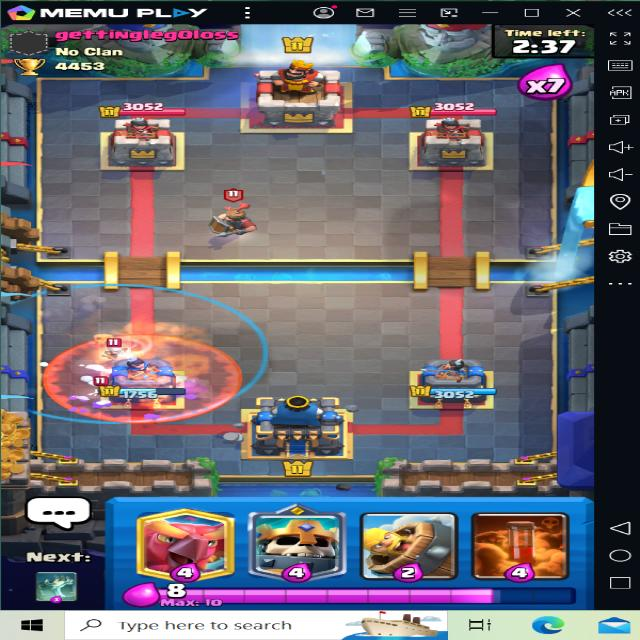poison: (44, 328, 243, 424)
royal-recruits: (212, 190, 266, 243)
skeleton: (98, 341, 126, 362)
